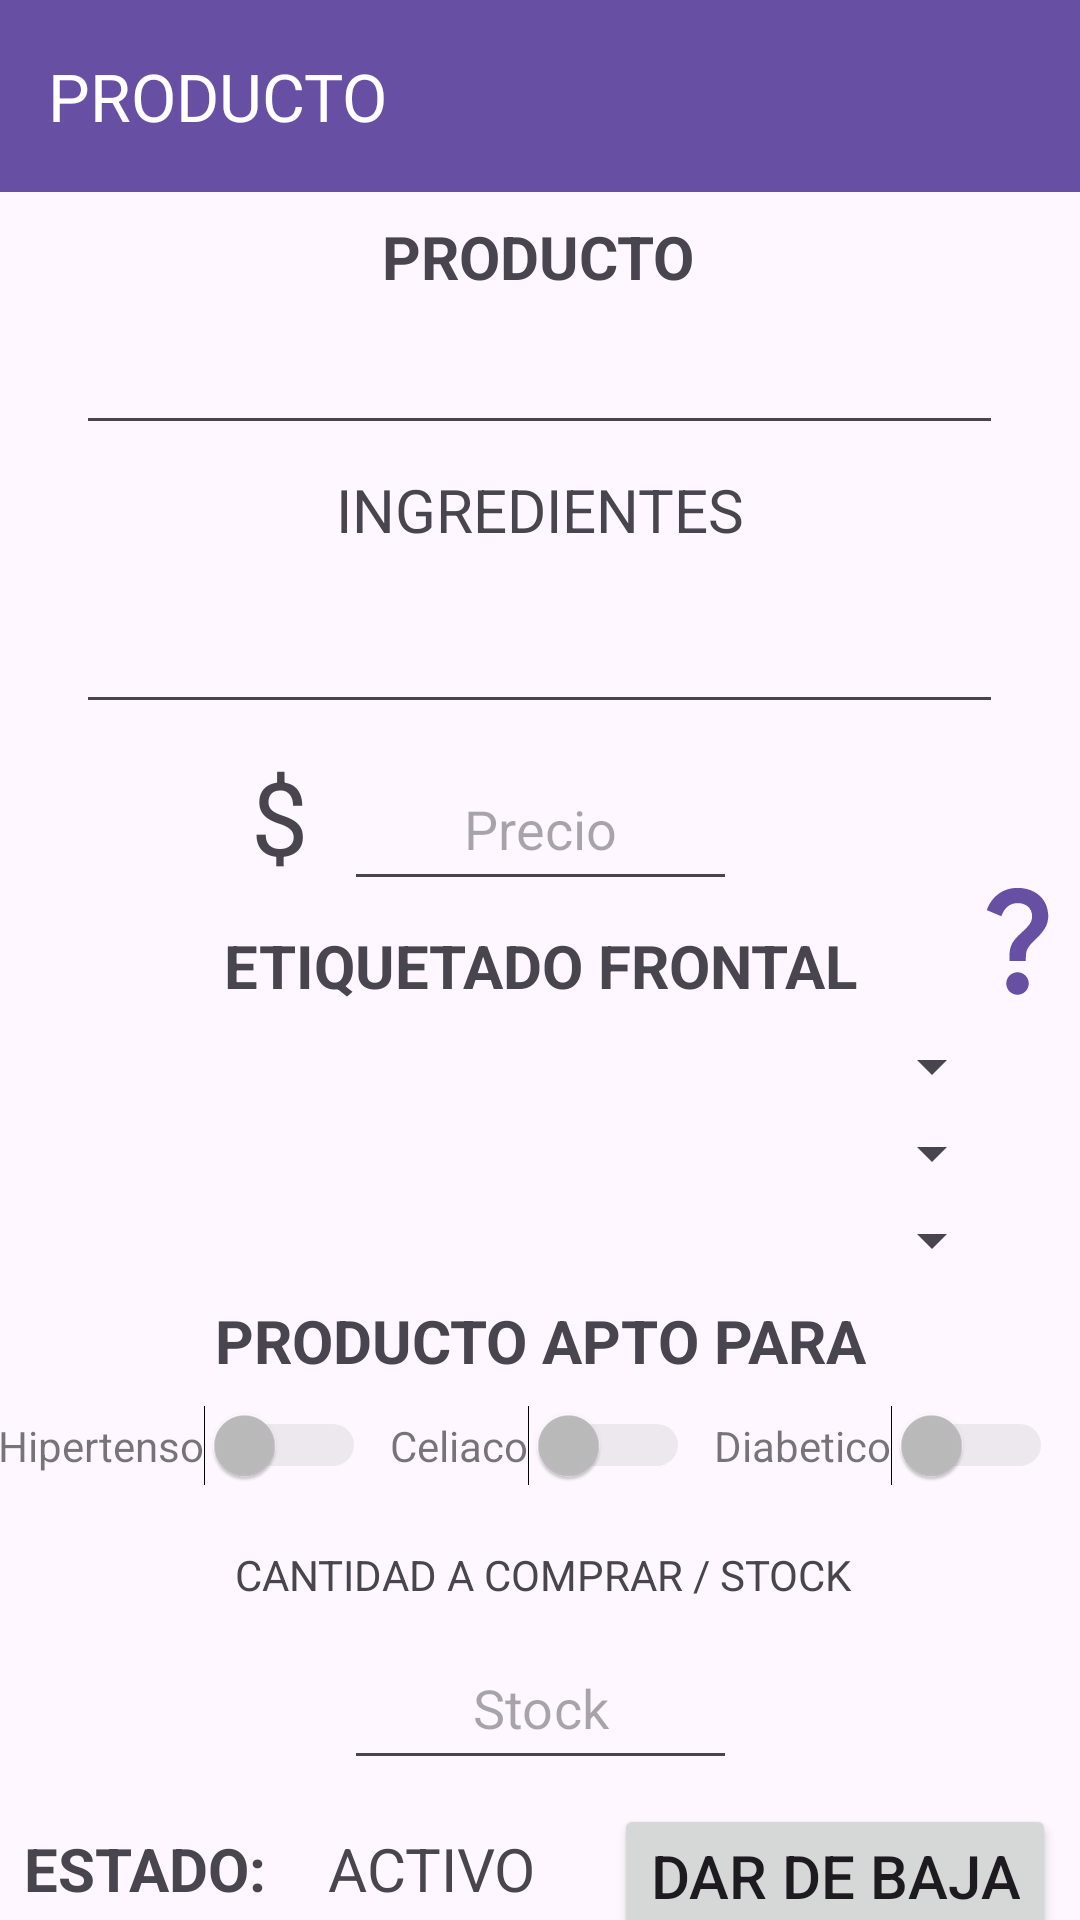

Icon click points for this 1080 × 1920 phone screenshot, format point (x, y):
question mark: point (1018, 941)
